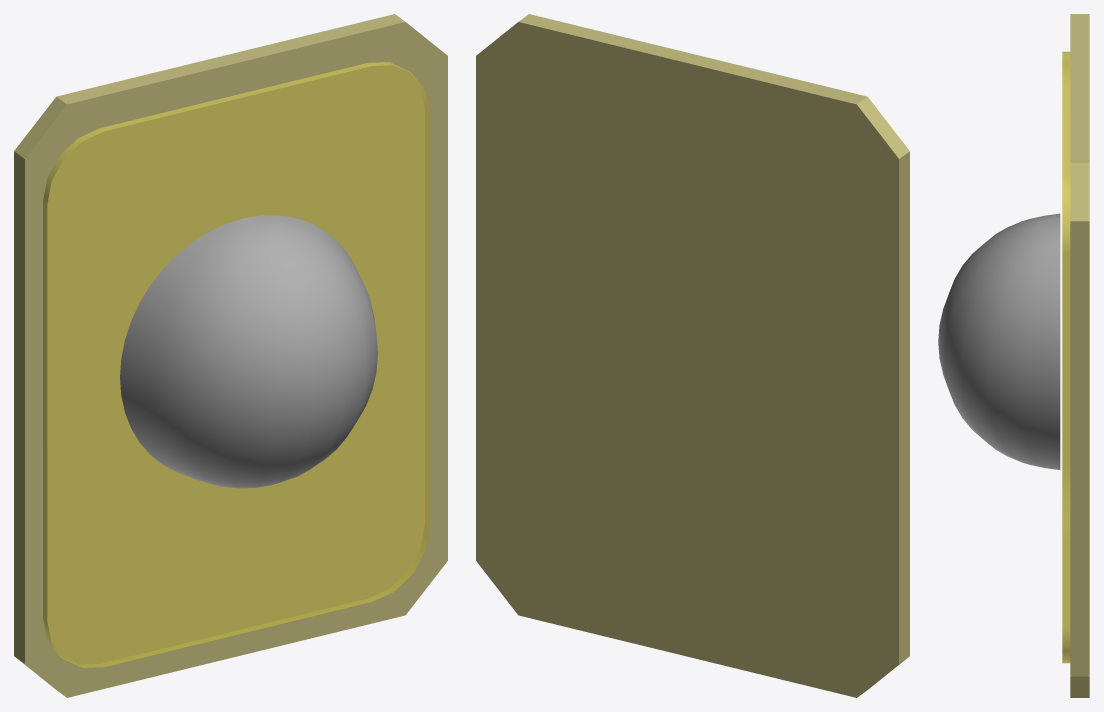
The model's file is match.fbx.
3 renders of one model, left to right at view 1: azimuth 30°, elevation 25°; view 2: azimuth 150°, elevation 25°; view 3: azimuth 270°, elevation 25°, orthographic. The views are drawn at different scales.
Parts seen in each view (by area): view 1: pCube1, pCube2, pSphere1; view 2: pCube1; view 3: pSphere1, pCube1, pCube2.
Boxes of the visible parts, x1,y1,x2,y2 form: pCube1: (14,14,447,697); pCube2: (43,62,429,667); pSphere1: (120,215,377,488); pCube1: (476,14,909,697); pSphere1: (938,213,1060,469); pCube1: (1070,14,1089,697); pCube2: (1062,51,1070,663).
Bounding box in the file's own units: 3.4 × 4.55 × 1.17.
